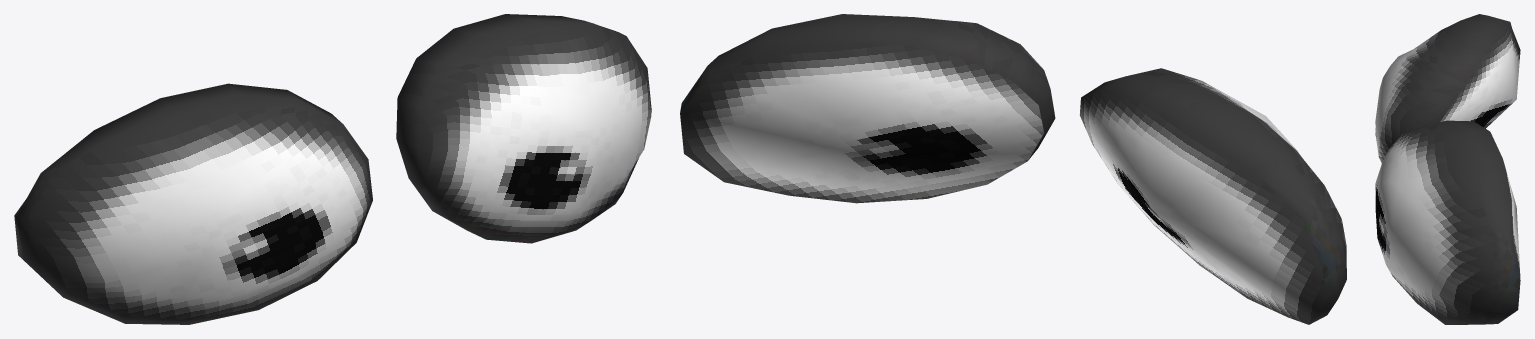
The model's file is m_e_seoyeong.FBX.
3 renders of one model, left to right at view 1: azimuth 30°, elevation 25°; view 2: azimuth 150°, elevation 25°; view 3: azimuth 270°, elevation 25°, orthographic. The views are drawn at different scales.
Visible parts, largest first — view 1: Object02; view 2: Object02; view 3: Object02.
Boxes of the visible parts, x1=… form: Object02: x1=14, y1=14, x2=651, y2=324; Object02: x1=680, y1=14, x2=1346, y2=324; Object02: x1=1375, y1=14, x2=1520, y2=324.
Bounding box in the file's own units: 5.52 × 1.65 × 1.44.
